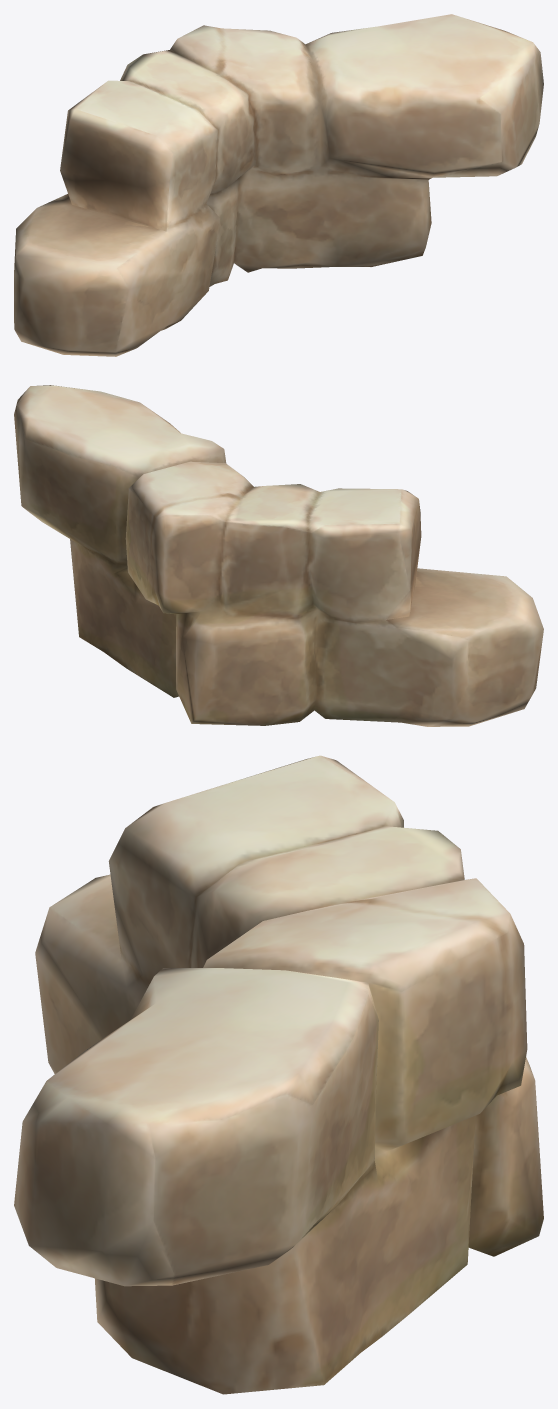
The model's file is mesh_StoneWall_Inner_2_Half.fbx.
The picture shows the model from 3 angles, top to bottom: view 1: azimuth 30°, elevation 25°; view 2: azimuth 150°, elevation 25°; view 3: azimuth 270°, elevation 25°; orthographic projection. The views are drawn at different scales.
Visible parts, largest first — view 1: StoneWall_Inner_2_Half_LOD0; view 2: StoneWall_Inner_2_Half_LOD0; view 3: StoneWall_Inner_2_Half_LOD0.
Boxes of the visible parts, x1=… form: StoneWall_Inner_2_Half_LOD0: x1=14, y1=14, x2=543, y2=356; StoneWall_Inner_2_Half_LOD0: x1=14, y1=385, x2=543, y2=726; StoneWall_Inner_2_Half_LOD0: x1=14, y1=755, x2=543, y2=1394.
Size of what is drawn, in the model's own units: 9.42 by 3.5 by 4.51.
Materials: 1 (1 with a texture image).
